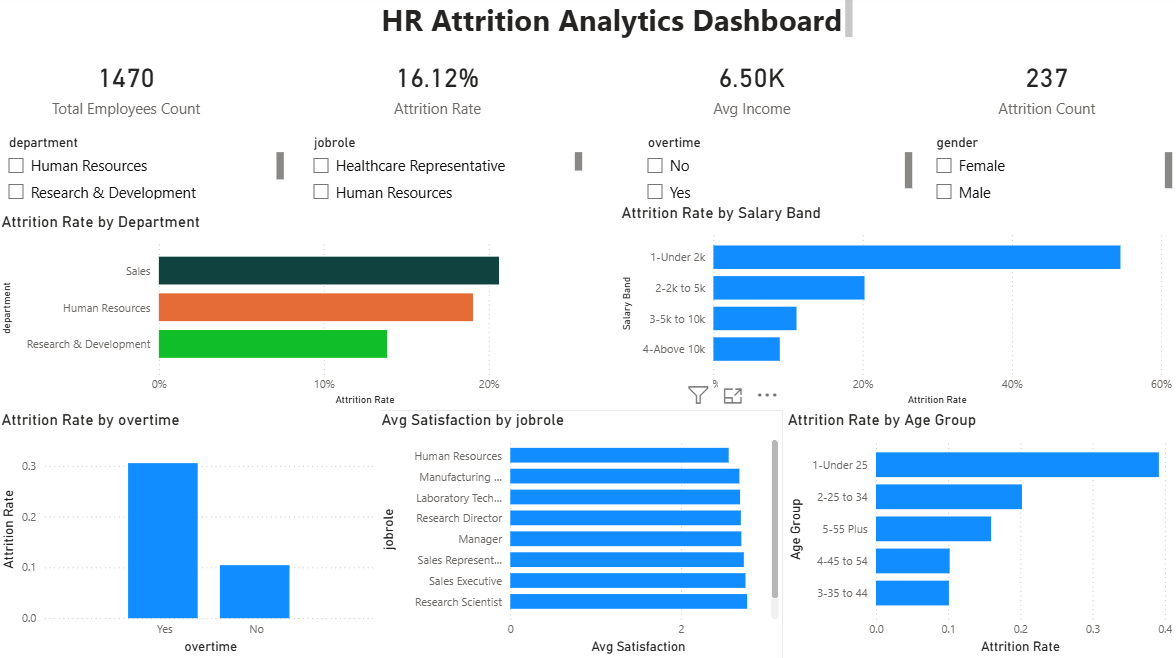

Layout of this report page (visuals, bound fields, positions):
{"tool":"powerbi","page":{"name":"Page 1","canvas":[1280,720],"ordinal":0},"visuals":[{"type":"card","fields":{"Values":["hr_attrition.Total Employees Count"]},"box":[0,51.5,280.7,94.9],"z":0},{"type":"card","fields":{"Values":["hr_attrition.Attrition Count"]},"box":[998.2,51.5,282.1,94.9],"z":1000},{"type":"card","fields":{"Values":["hr_attrition.Avg Income"]},"box":[672.7,51.5,292.9,94.9],"z":2000},{"type":"card","fields":{"Values":["hr_attrition.Attrition Rate"]},"box":[316,51.5,324.1,94.9],"z":3000},{"type":"barChart","title":"Attrition Rate by Department","fields":{"Y":["hr_attrition.Attrition Rate"],"Category":["hr_attrition.department"]},"box":[0,236,640.1,214.3],"z":4000},{"type":"clusteredBarChart","fields":{"Category":["hr_attrition.Salary Band"],"Y":["hr_attrition.Attrition Rate"]},"box":[672.7,226.5,607.6,223.8],"z":5000},{"type":"clusteredBarChart","fields":{"Category":["hr_attrition.jobrole"],"Y":["hr_attrition.Avg Satisfaction"]},"box":[412.3,450.3,440.8,269.9],"z":6000},{"type":"clusteredColumnChart","fields":{"Category":["hr_attrition.overtime"],"Y":["hr_attrition.Attrition Rate"]},"box":[0,450.3,416.4,269.9],"z":7000},{"type":"clusteredBarChart","fields":{"Category":["hr_attrition.Age Group"],"Y":["hr_attrition.Attrition Rate"]},"box":[853.1,450.3,427.2,269.9],"z":8000},{"type":"textbox","box":[412.3,0,520.8,51.5],"z":9000},{"type":"slicer","fields":{"Values":["hr_attrition.department"]},"box":[0,146.5,316,80],"z":10000},{"type":"slicer","fields":{"Values":["hr_attrition.jobrole"]},"box":[330.9,146.5,309.2,80],"z":11000},{"type":"slicer","fields":{"Values":["hr_attrition.overtime"]},"box":[693,146.5,305.2,80],"z":12000},{"type":"slicer","fields":{"Values":["hr_attrition.gender"]},"box":[1006.3,146.5,274,80],"z":13000}]}

Visuals, with their boxes in screenshot pixels (x1, y1, x2, y2), scaled from the page's 1280x720 canvas onto the 1176x658 screenshot:
card - hr_attrition.Total Employees Count: bbox(0, 47, 258, 134)
card - hr_attrition.Attrition Count: bbox(917, 47, 1175, 134)
card - hr_attrition.Avg Income: bbox(618, 47, 887, 134)
card - hr_attrition.Attrition Rate: bbox(290, 47, 588, 134)
"Attrition Rate by Department" barChart: bbox(0, 216, 588, 412)
clusteredBarChart - hr_attrition.Salary Band x hr_attrition.Attrition Rate: bbox(618, 207, 1175, 412)
clusteredBarChart - hr_attrition.jobrole x hr_attrition.Avg Satisfaction: bbox(379, 412, 784, 657)
clusteredColumnChart - hr_attrition.overtime x hr_attrition.Attrition Rate: bbox(0, 412, 383, 657)
clusteredBarChart - hr_attrition.Age Group x hr_attrition.Attrition Rate: bbox(784, 412, 1175, 657)
textbox: bbox(379, 0, 857, 47)
slicer - hr_attrition.department: bbox(0, 134, 290, 207)
slicer - hr_attrition.jobrole: bbox(304, 134, 588, 207)
slicer - hr_attrition.overtime: bbox(637, 134, 917, 207)
slicer - hr_attrition.gender: bbox(925, 134, 1175, 207)
